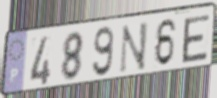4: (29, 33, 53, 87)
6: (152, 18, 177, 69)
8: (60, 30, 85, 83)
9: (92, 25, 116, 79)
E: (181, 13, 211, 65)
N: (118, 20, 150, 76)
